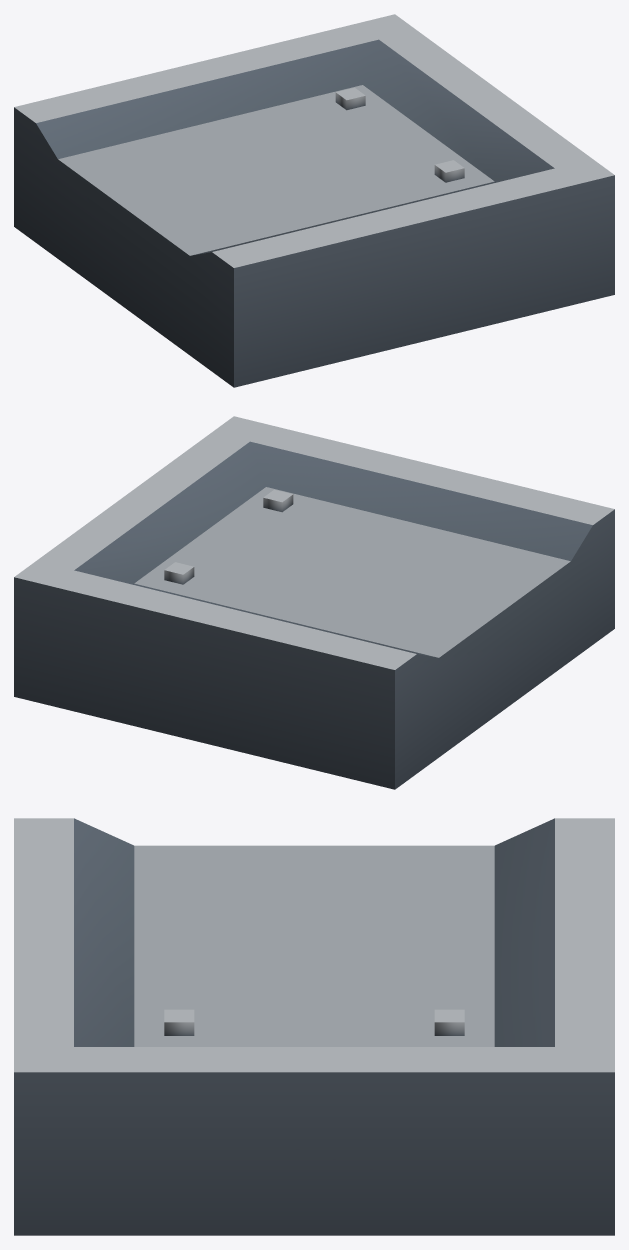
Rendered from floor-panel-end.glb.
3 renders of one model, top to bottom at view 1: azimuth 30°, elevation 25°; view 2: azimuth 150°, elevation 25°; view 3: azimuth 270°, elevation 25°, orthographic. The views are drawn at different scales.
Parts seen in each view (by area): view 1: floor-panel-end; view 2: floor-panel-end; view 3: floor-panel-end.
Part boxes in pixels (x1,y1,x2,y2): floor-panel-end: (14,14,614,387); floor-panel-end: (14,416,614,789); floor-panel-end: (14,818,614,1235).
Size of the model in its own units: 1 by 0.3 by 1.
